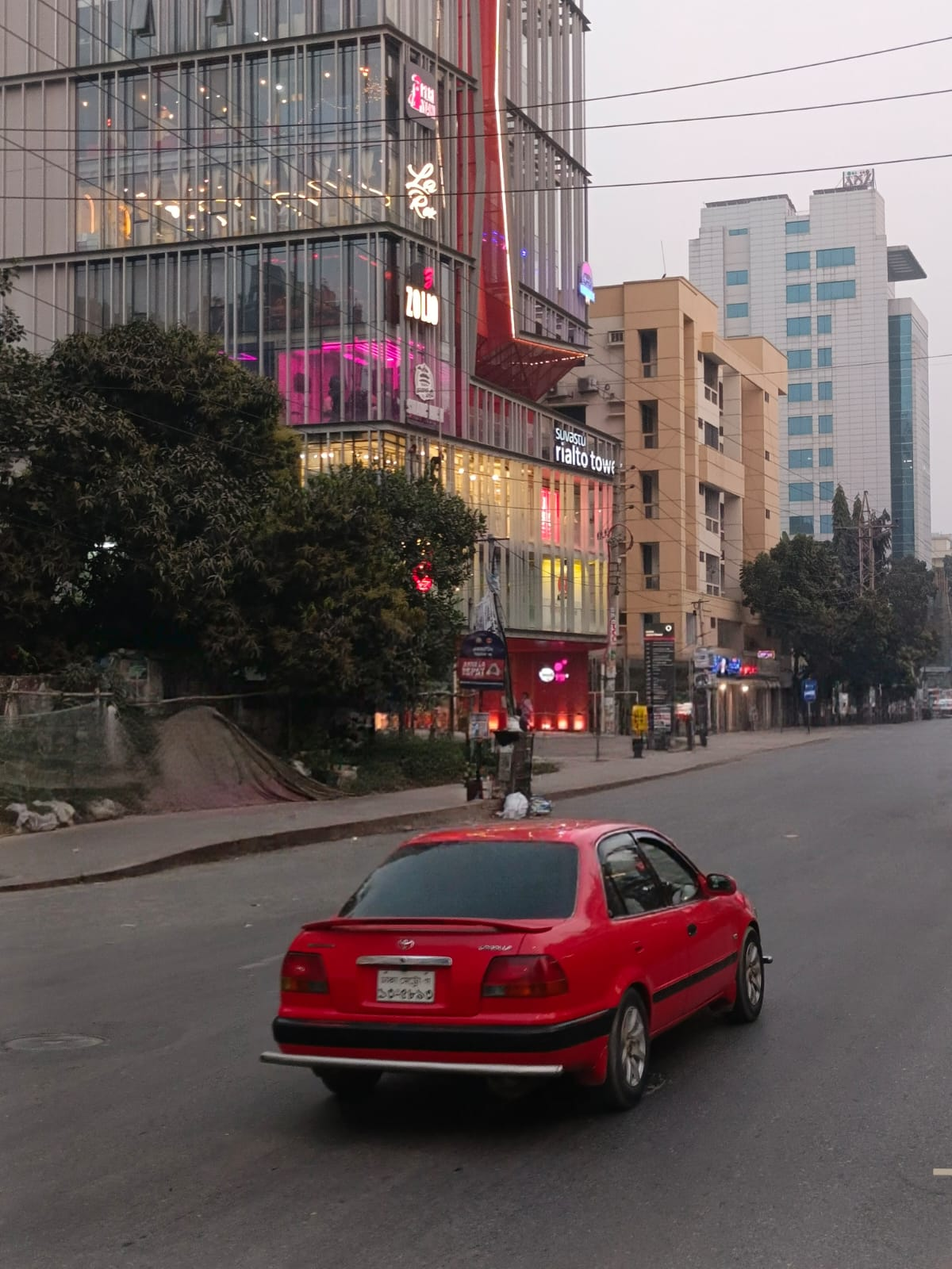private car: (257, 767, 800, 1255)
